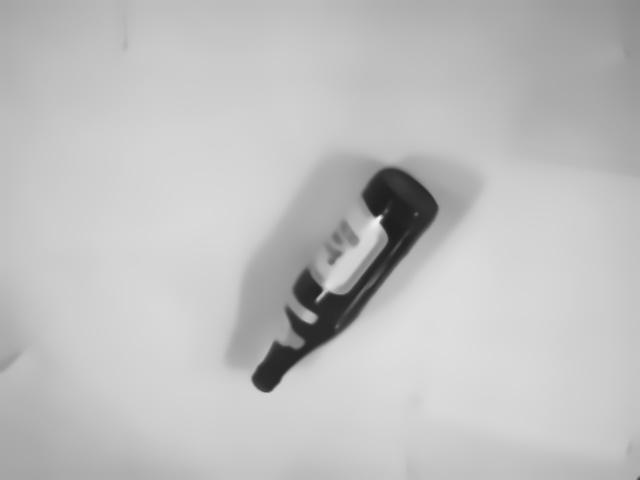Glass: (249, 165, 442, 398)
